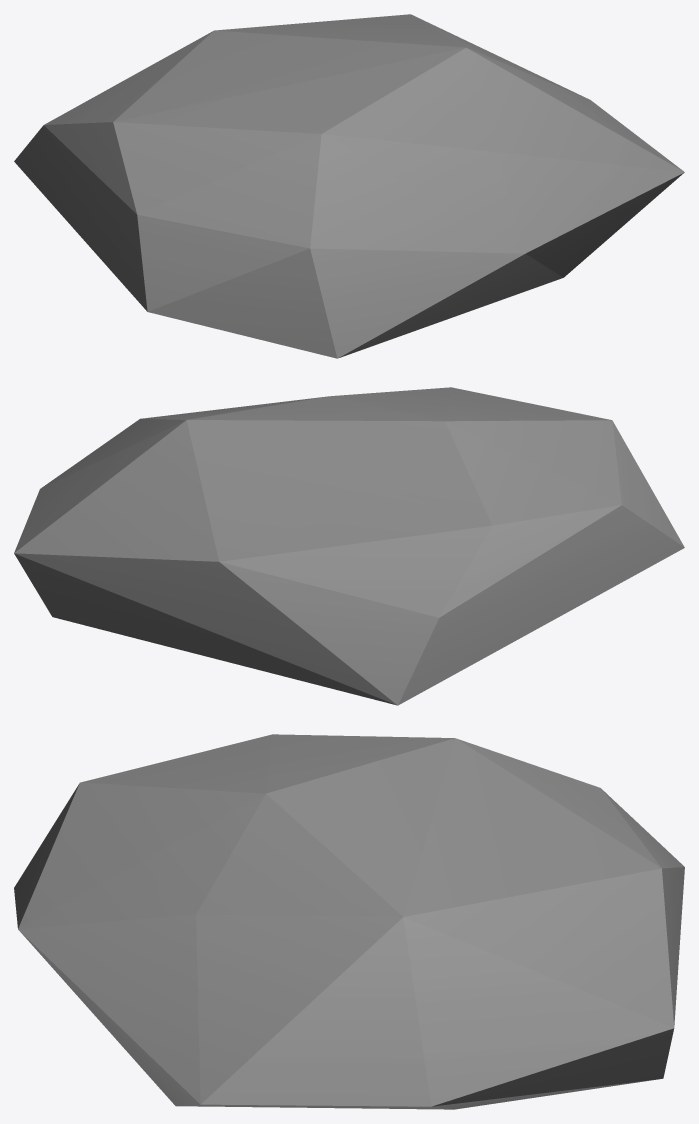
Rendered from Rock_Big_Flat_01.fbx.
The picture shows the model from 3 angles, top to bottom: view 1: azimuth 30°, elevation 25°; view 2: azimuth 150°, elevation 25°; view 3: azimuth 270°, elevation 25°; orthographic projection. The views are drawn at different scales.
Visible parts, largest first — view 1: Rock_Big_Flat; view 2: Rock_Big_Flat; view 3: Rock_Big_Flat.
Boxes of the visible parts, x1,y1,x2,y2 form: Rock_Big_Flat: (14, 14, 684, 358); Rock_Big_Flat: (14, 387, 684, 705); Rock_Big_Flat: (14, 734, 684, 1109).
Size of the model in its own units: 2 by 0.6 by 1.8.
